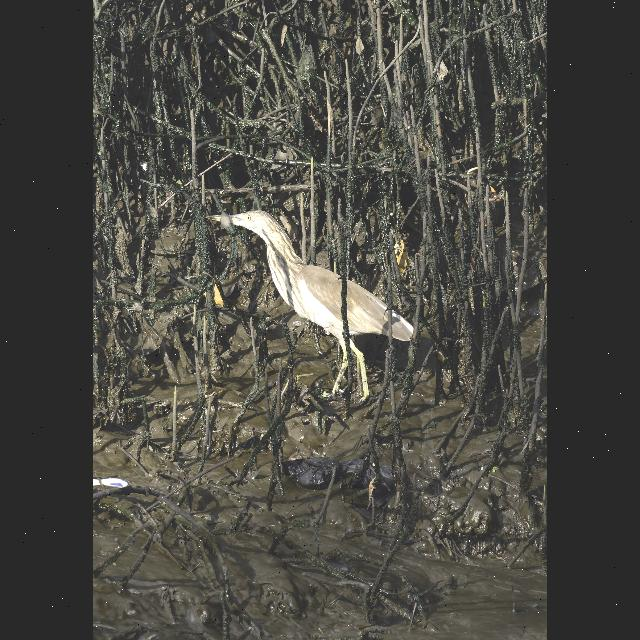heron: (210, 198, 428, 414)
